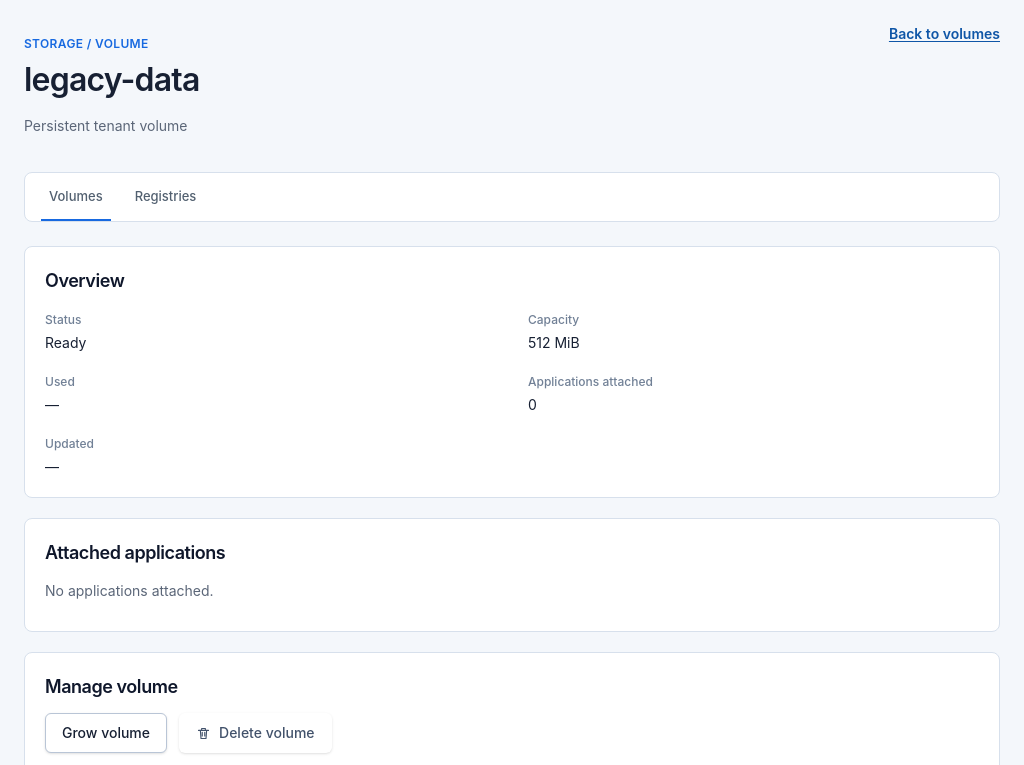
Test: retains the detail page and reports asynchronous volume-grow failure
Click the button "Grow volume". click: (106, 733)
box: top-left (45, 713), bottom-right (167, 753)
(page scrolled)
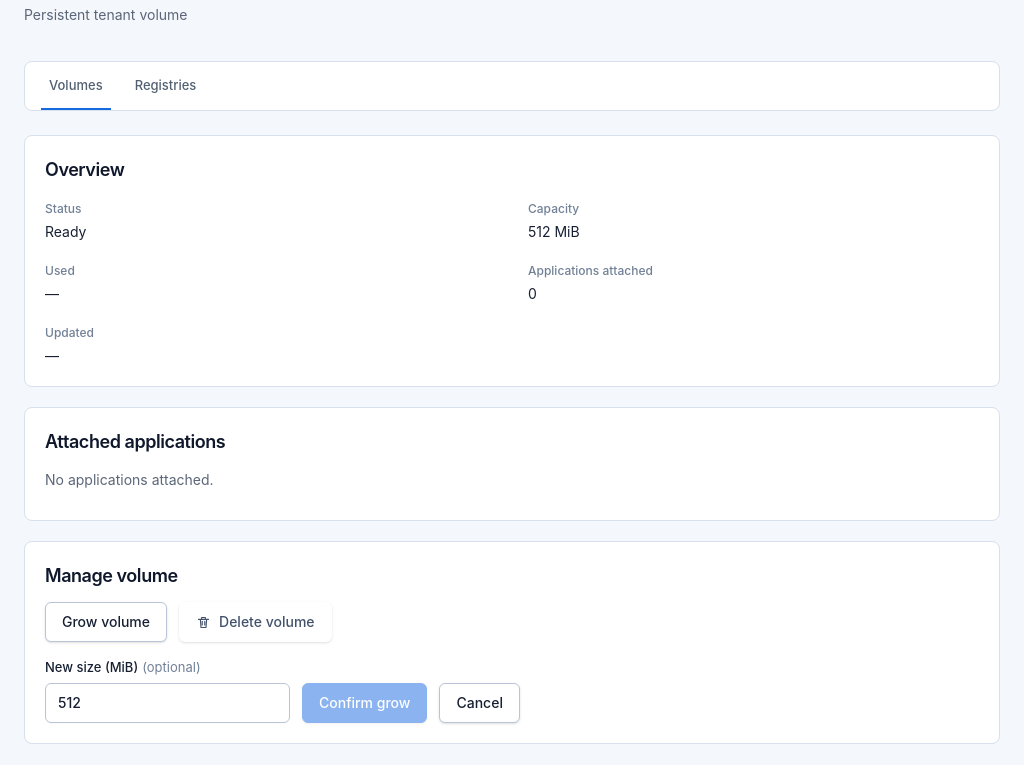
Replace the text in the number field labelled "New size (MiB)" with "1024". click: (168, 703)
box: top-left (45, 683), bottom-right (290, 723)
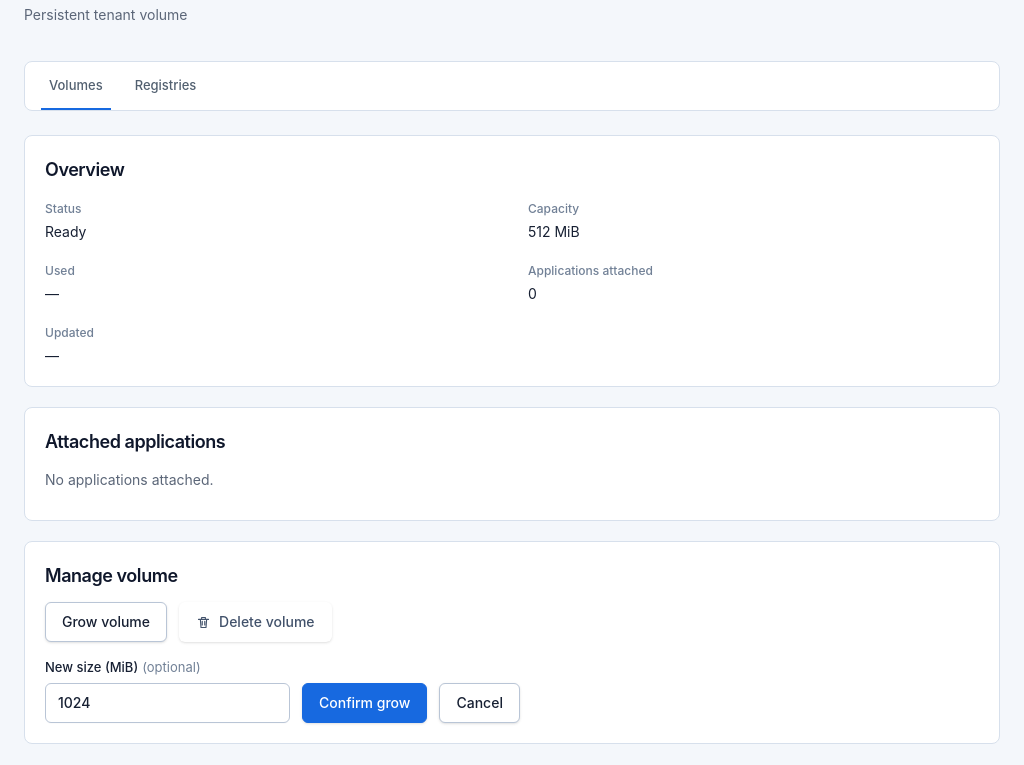
Click the button "Confirm grow". click: (365, 703)
box: top-left (302, 683), bottom-right (427, 723)
(page scrolled)
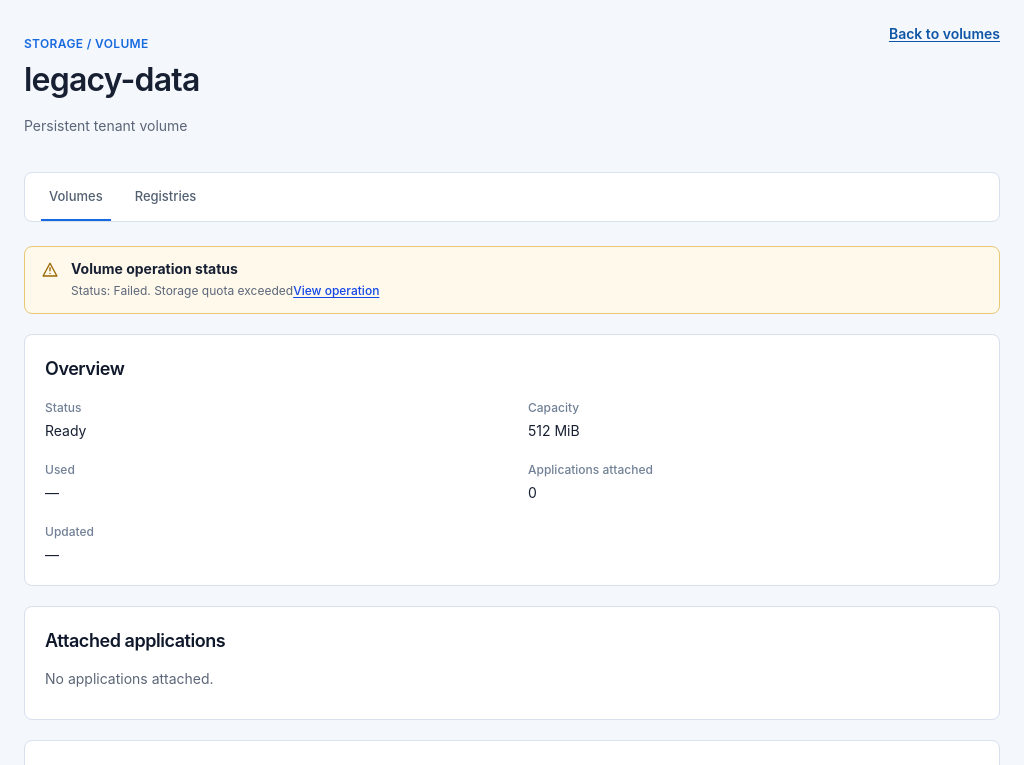
Expected: the heading "legacy-data" is shown, top-left (24, 60), bottom-right (200, 100)
Expected: the text "Storage quota exceeded" is shown, top-left (154, 283), bottom-right (293, 298)
